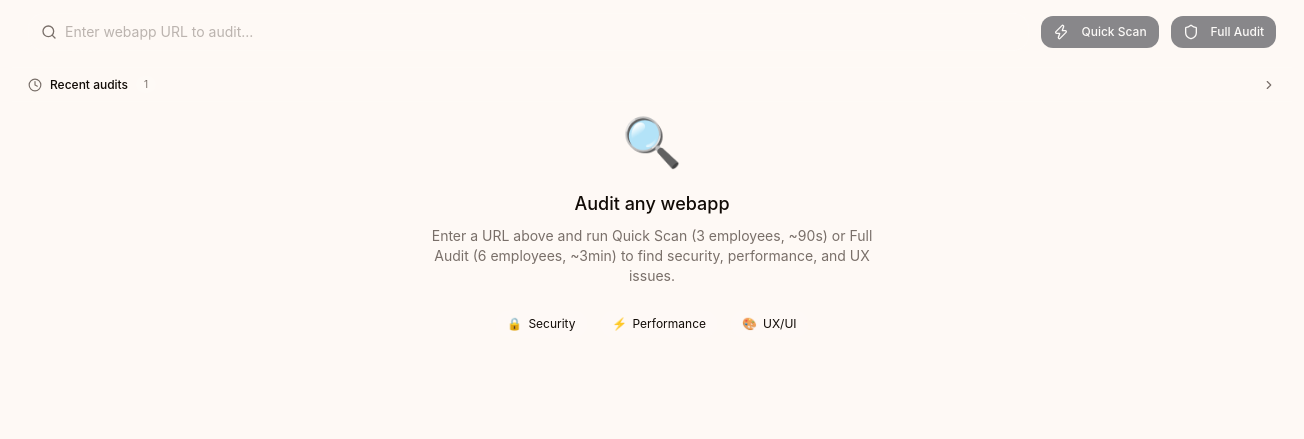
Test: AuditPanel — history / report / share / export › creates a share link and shows it
Click the text "Recent audits": [89, 85] box [50, 77, 128, 93]
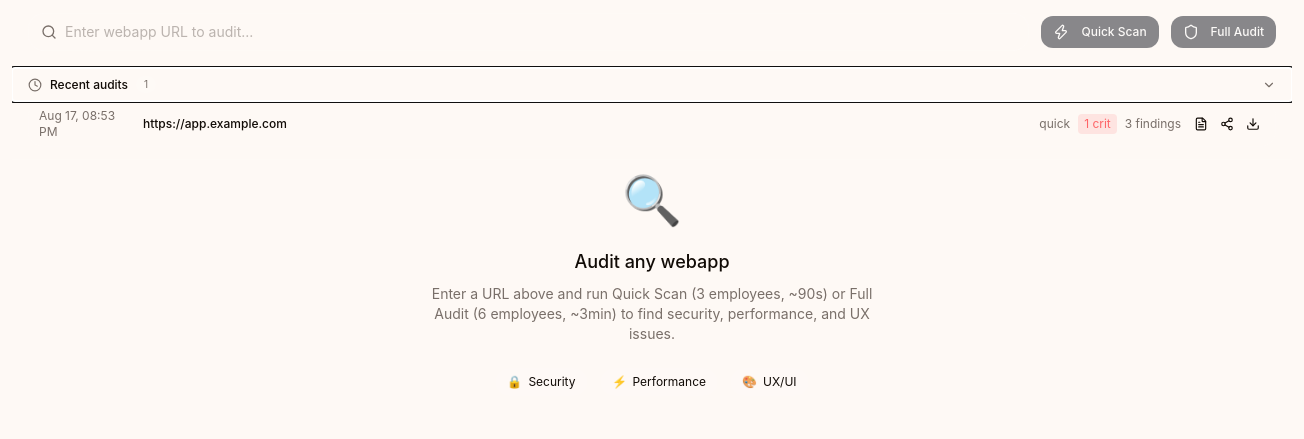
Click the button named "Share audit 1": [1227, 124] box [1215, 112, 1239, 136]
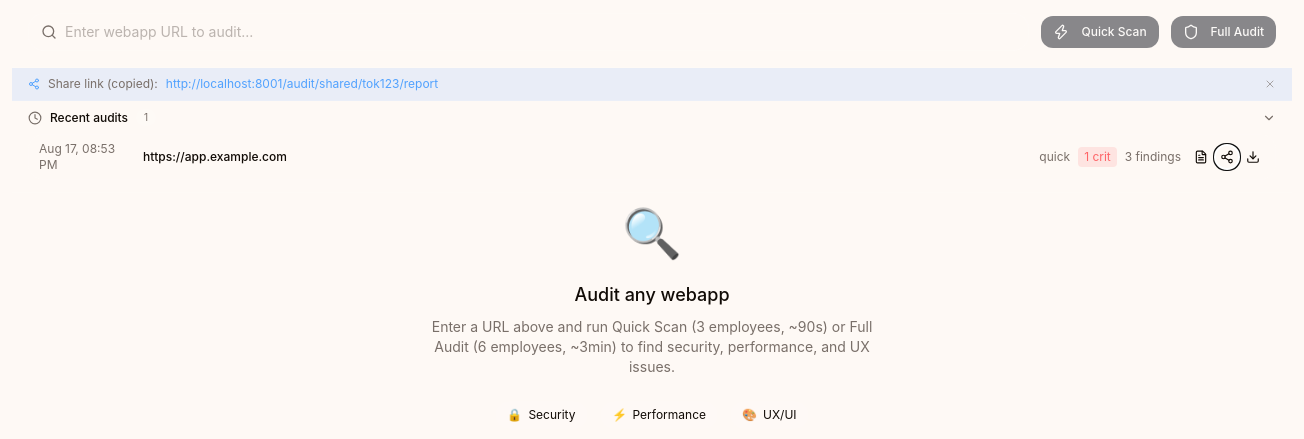
Expected: the link "http://localhost:8001/audit/shared/tok123/report" is shown, [166, 76, 438, 92]
